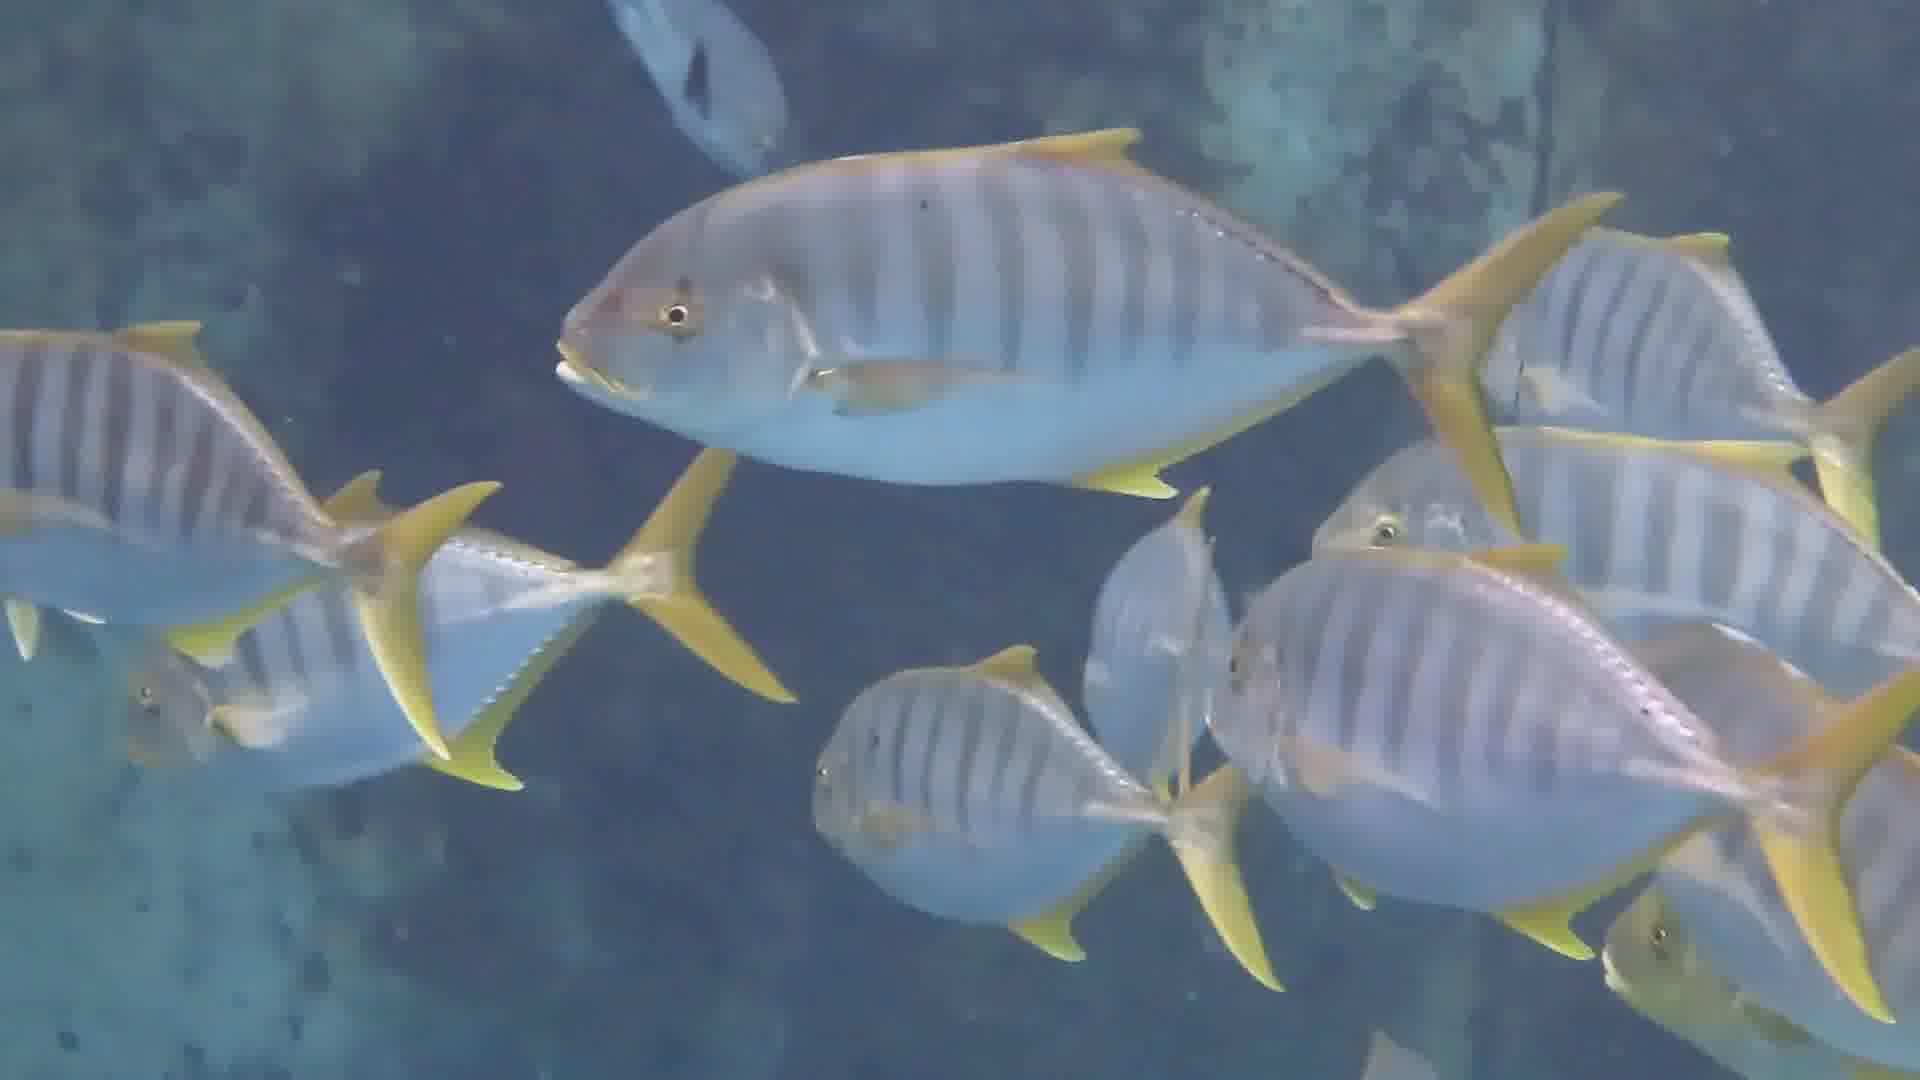Gnathanodon speciosus: (526, 154, 1511, 480), (1174, 585, 1865, 916), (92, 472, 785, 796), (785, 698, 1280, 955)
